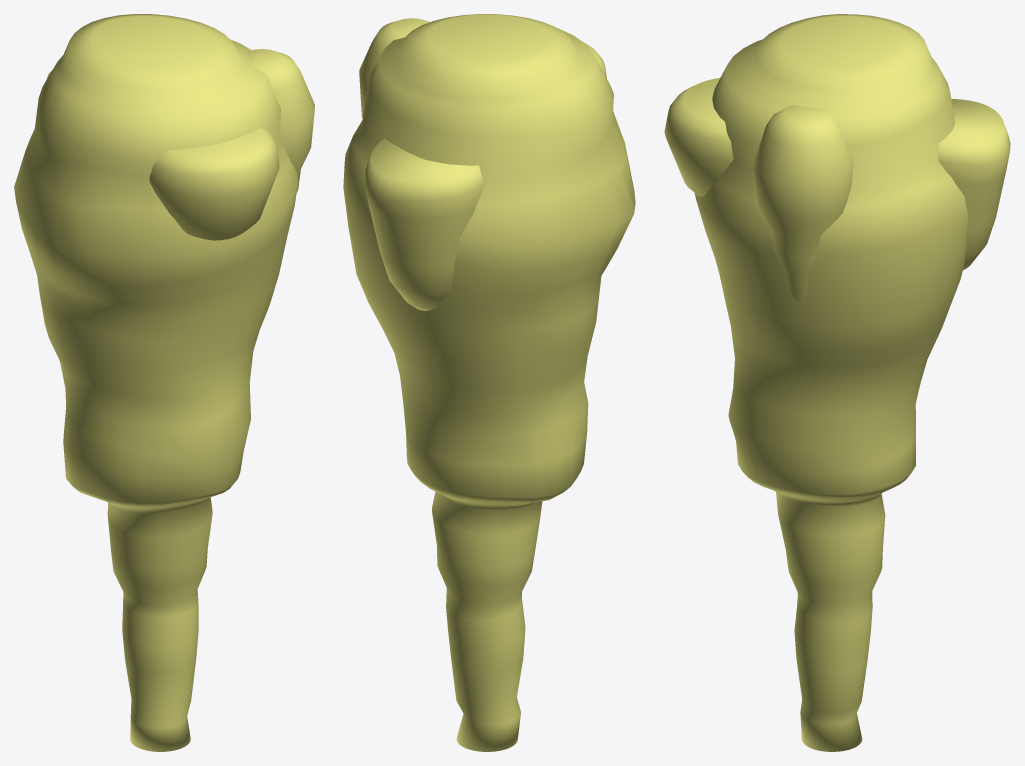
Rendered from RockPillar1.fbx.
The picture shows the model from 3 angles, left to right: view 1: azimuth 30°, elevation 25°; view 2: azimuth 150°, elevation 25°; view 3: azimuth 270°, elevation 25°; orthographic projection.
Parts seen in each view (by area): view 1: RockPillar1; view 2: RockPillar1; view 3: RockPillar1.
Part boxes in pixels (box(x1,y1,x2,y2)): RockPillar1: box(14, 14, 314, 751); RockPillar1: box(343, 14, 635, 751); RockPillar1: box(664, 14, 1010, 751).
Bounding box in the file's own units: 740 × 1885 × 849.
